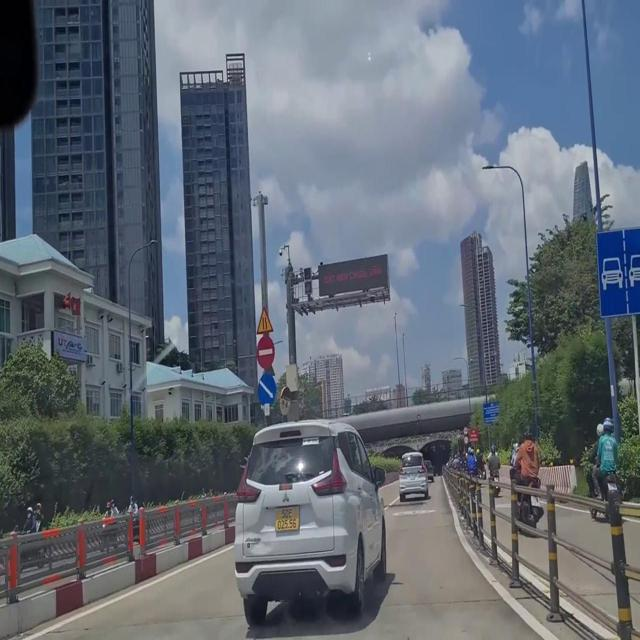Cấm đi ngược chiều: (253, 333, 276, 370)
Hướng phải đi vòng sang phải: (250, 368, 279, 406)
Khác: (479, 396, 502, 426)
Làn đường cho từng xe: (587, 212, 636, 325)
Đường hẹp: (254, 304, 273, 334)
